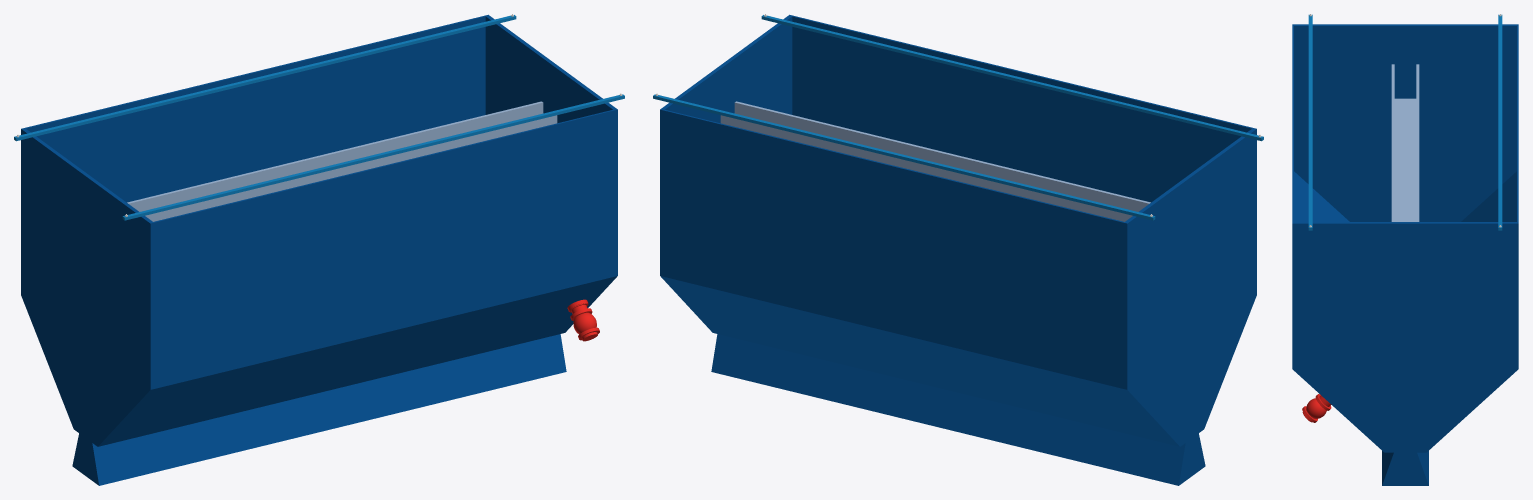
Rendered from circulating-clarifier.gltf.
3 views of the same model, side by side, from view 1: azimuth 30°, elevation 25°; view 2: azimuth 150°, elevation 25°; view 3: azimuth 270°, elevation 25° (orthographic). The views are drawn at different scales.
Visible parts, largest first — view 1: 拉伸 [212434], 连接的实心几何图形 [212478], 拉伸 [212469], 拉伸 [212713]; view 2: 拉伸 [212434], 连接的实心几何图形 [212478], 拉伸 [212469], 拉伸 [212713]; view 3: 拉伸 [212434], 连接的实心几何图形 [212478], 拉伸 [212469], 拉伸 [212713], 旋转 [212552].
Boxes of the visible parts, x1,y1,x2,y2 form: 拉伸 [212434]: [21, 14, 617, 389]; 连接的实心几何图形 [212478]: [21, 276, 617, 485]; 拉伸 [212469]: [127, 101, 557, 221]; 拉伸 [212713]: [14, 15, 624, 220]; 拉伸 [212434]: [660, 14, 1256, 389]; 连接的实心几何图形 [212478]: [660, 276, 1256, 485]; 拉伸 [212469]: [720, 101, 1150, 221]; 拉伸 [212713]: [653, 15, 1263, 220]; 拉伸 [212434]: [1292, 24, 1518, 369]; 连接的实心几何图形 [212478]: [1293, 171, 1517, 485]; 拉伸 [212469]: [1391, 64, 1419, 221]; 拉伸 [212713]: [1308, 14, 1502, 230]; 旋转 [212552]: [1302, 394, 1331, 422].
Bounding box in the file's own units: 5.35 × 3.12 × 2.4.
